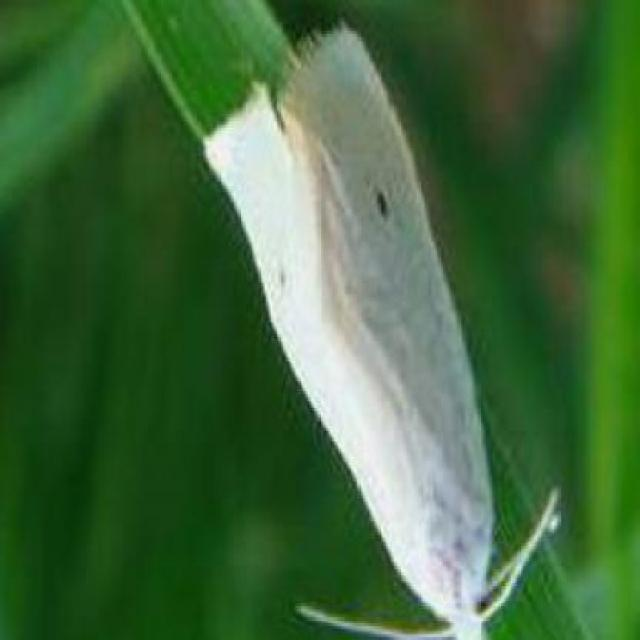stem-borer: (199, 11, 567, 638)
